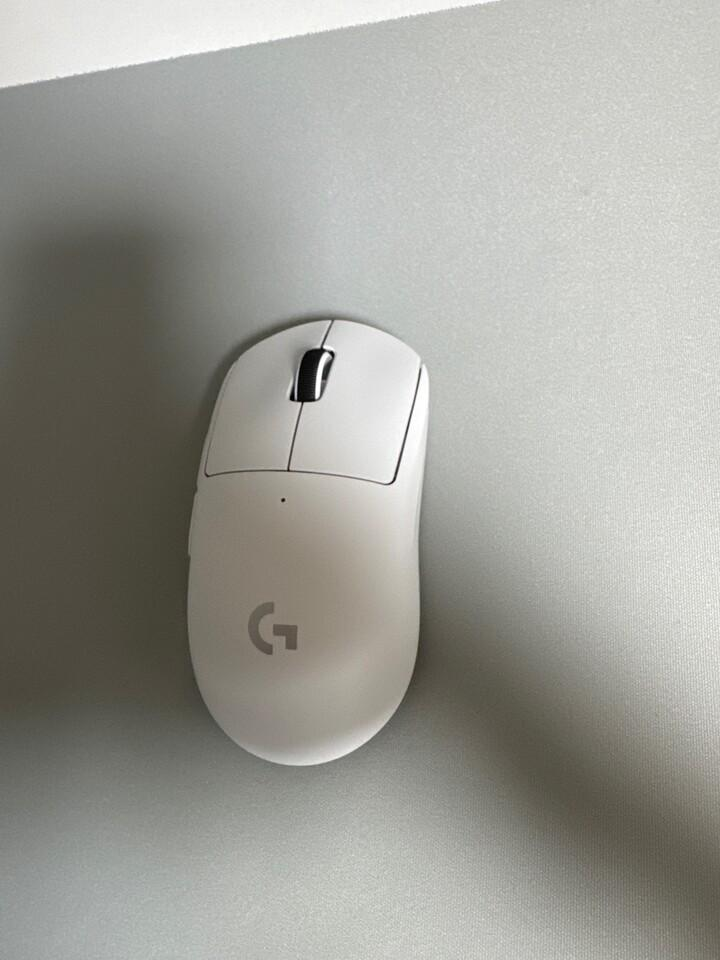mouse: (184, 316, 430, 767)
